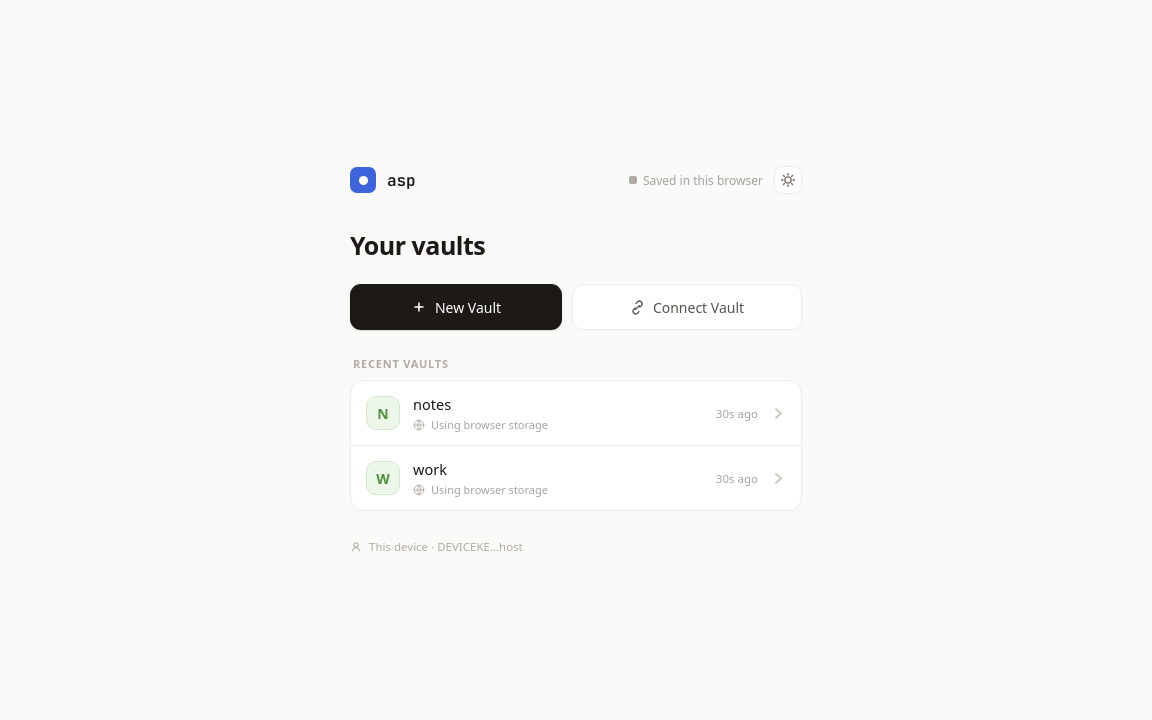
App — editor › flips the content status to Saving… while a write is in flight
The image size is (1152, 720).
Click the text "notes" at (432, 404), box [413,394,451,414]
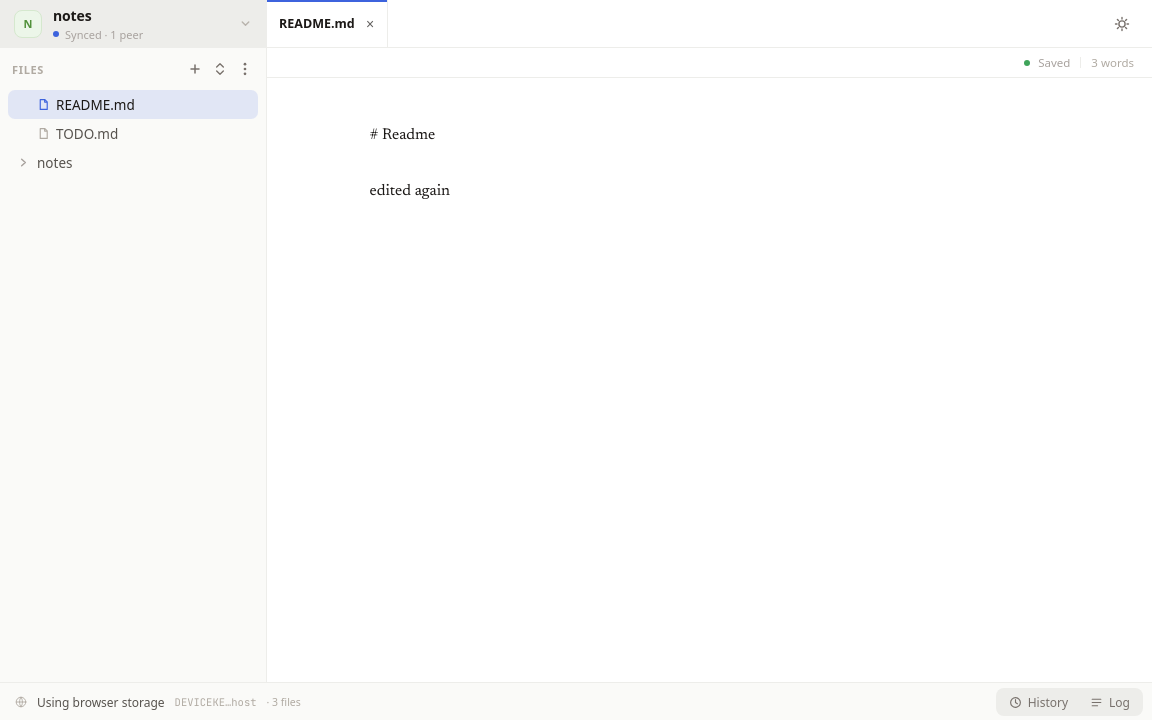
Now the text "Files" is shown, box [12,62,44,76]
Now the text box with test id "live-editor" shows "Readme"
Clear the text box with test id "live-editor" at (402, 136), box [370,128,450,199]
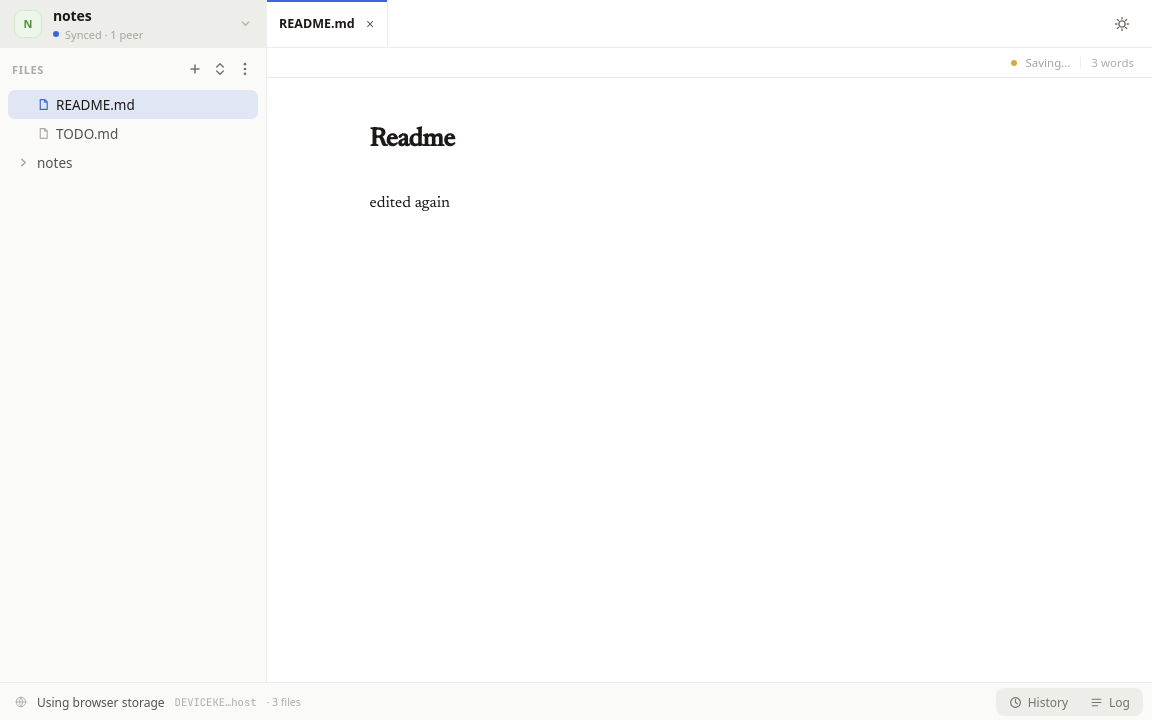
Now the element with test id "content-status" shows "Saving…", box [1026,55,1070,70]
